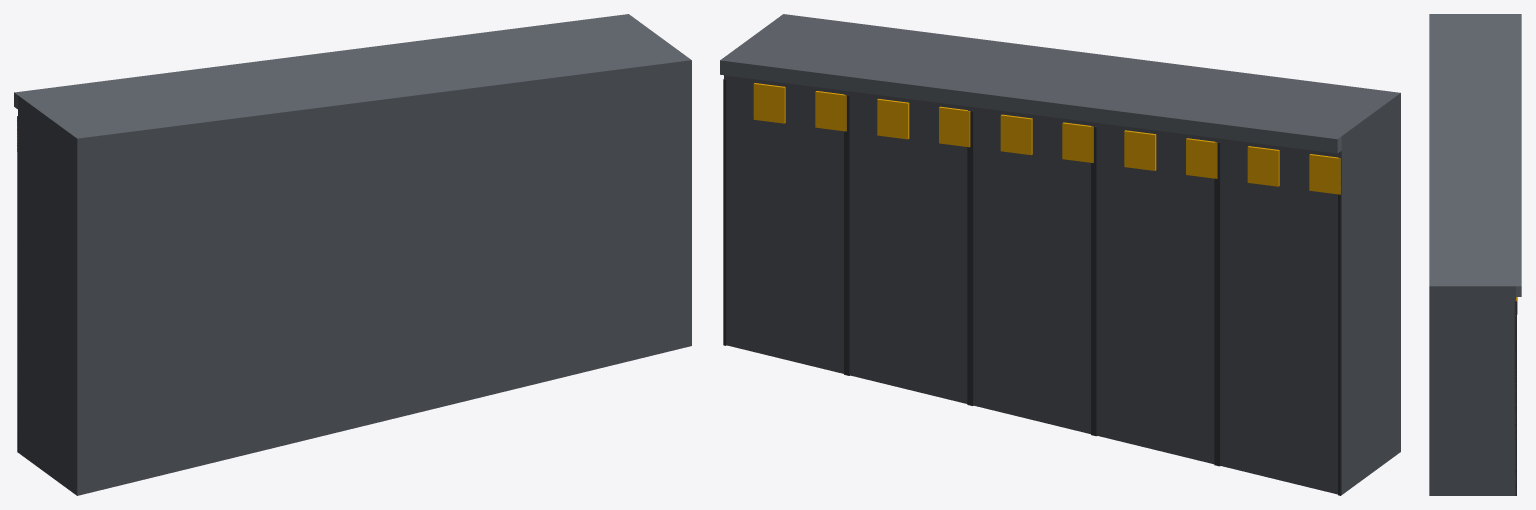
3 views of the same model, side by side, from view 1: azimuth 30°, elevation 25°; view 2: azimuth 150°, elevation 25°; view 3: azimuth 270°, elevation 25° (orthographic). The views are drawn at different scales.
Visible parts, largest first — view 1: b0wf; view 2: b0wf; view 3: b0wf.
Boxes of the visible parts, left/top/right/bottom form: b0wf: left=14, top=14, right=691, bottom=495; b0wf: left=720, top=14, right=1400, bottom=495; b0wf: left=1429, top=14, right=1521, bottom=495.
Bounding box in the file's own units: 9 × 5 × 1.6.
